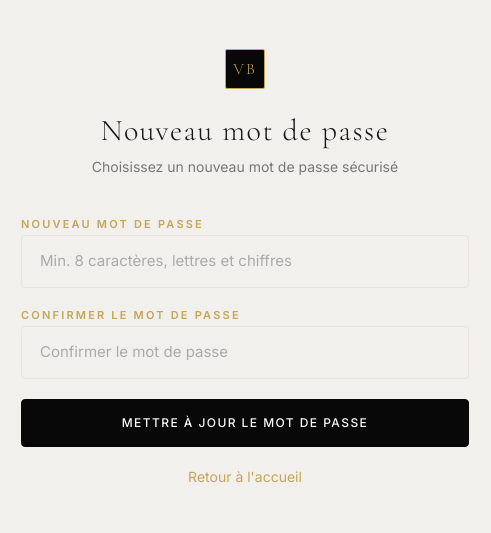
Test case: Page de changement du mot de passe › refuse un mot de passe sans chiffre avant d appeler Supabase
In the password field labelled "Nouveau mot de passe": (245, 262) [21,235,469,288], type "abcdefgh"
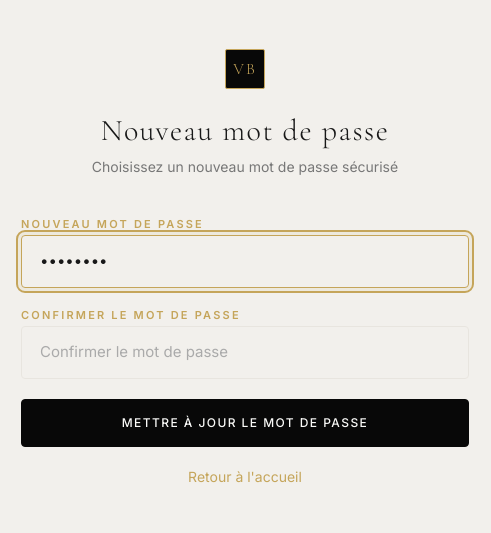
In the password field labelled "Confirmer le mot de passe": (245, 353) [21,326,469,379], type "abcdefgh"
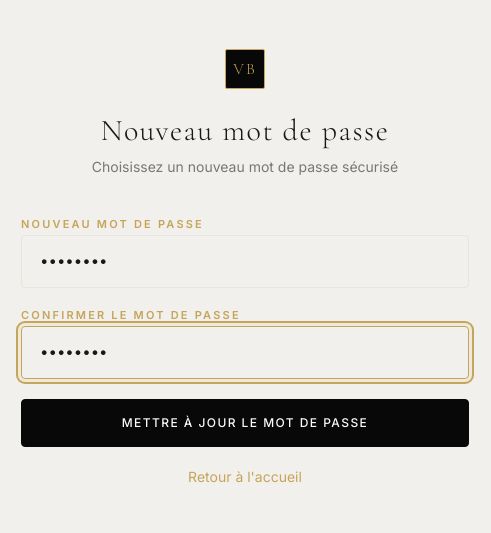
Click the button "Mettre à jour le mot de passe": click(245, 423) [21,399,469,447]
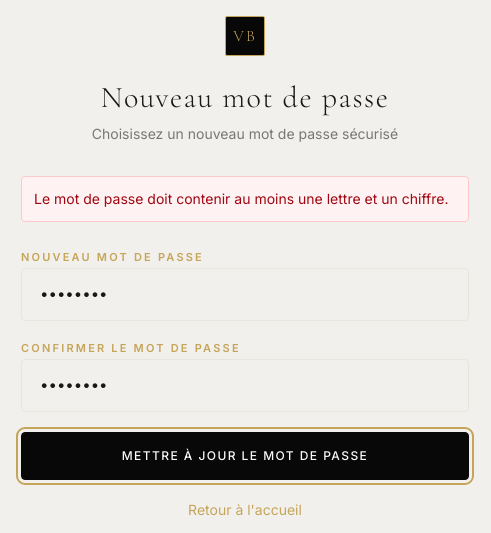
Expected: the text "une lettre et un chiffre" is shown, [34,190,448,207]
